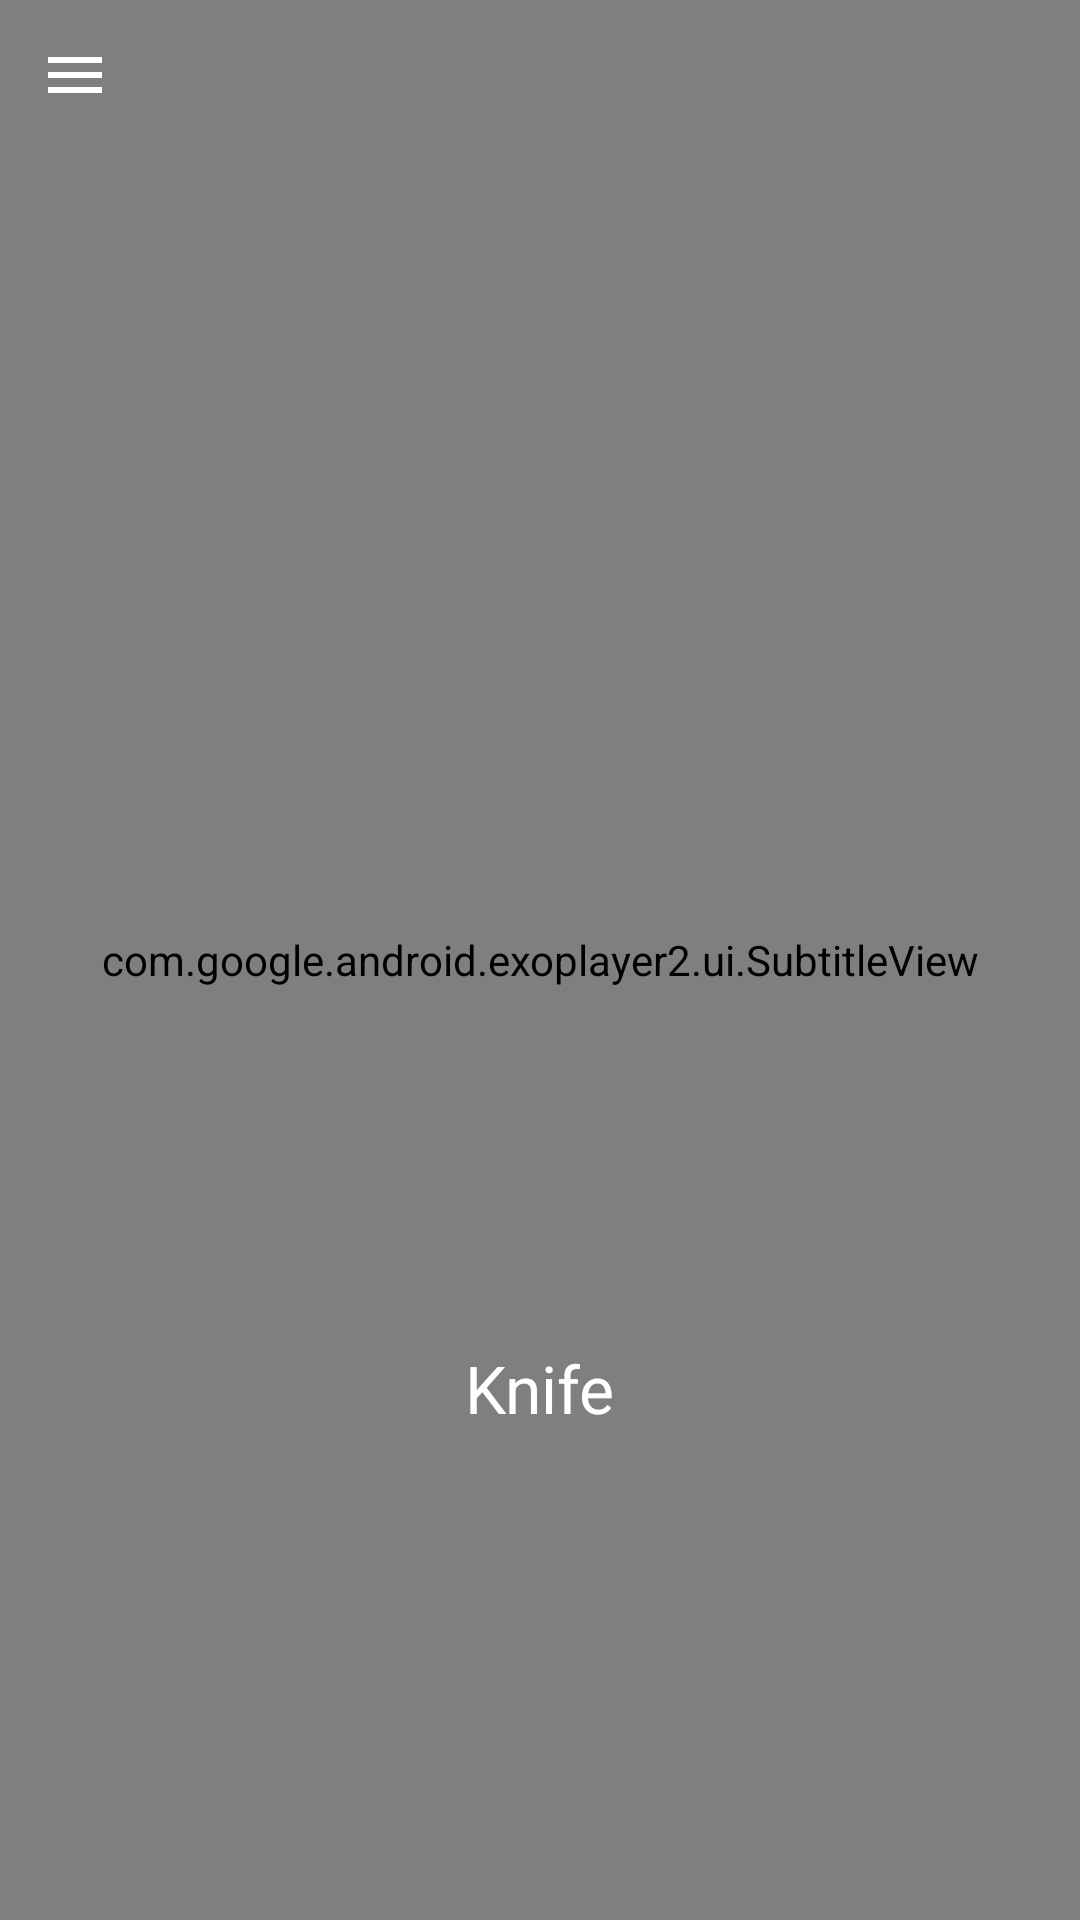

Screen size 1080*1920. Icon name, then its box in pixels as (x1, y1, x2, y2):
menu: (48, 57, 102, 93)
